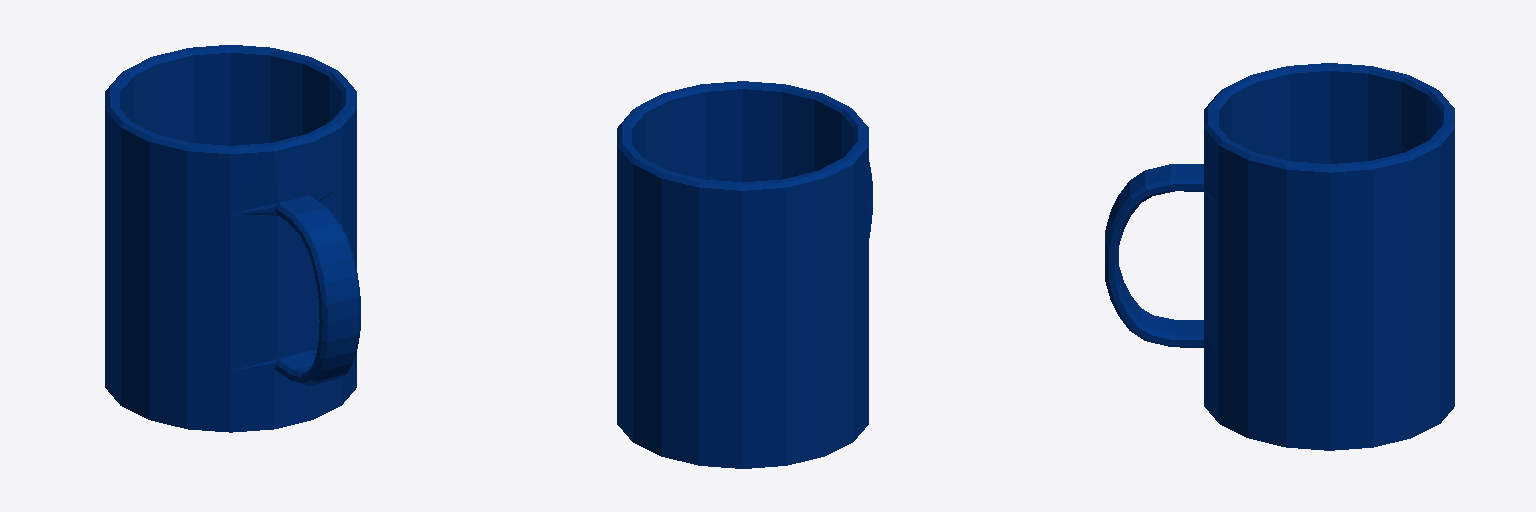
Rendered from mug.obj.
3 renders of one model, left to right at view 1: azimuth 30°, elevation 25°; view 2: azimuth 150°, elevation 25°; view 3: azimuth 270°, elevation 25°, orthographic.
Visible parts, largest first — view 1: Mug; view 2: Mug; view 3: Mug.
Boxes of the visible parts, <box> form: Mug: <box>105,45,360,432</box>; Mug: <box>617,81,872,468</box>; Mug: <box>1105,63,1454,450</box>.
Size of the model in its own units: 50.38 by 61.42 by 69.28.